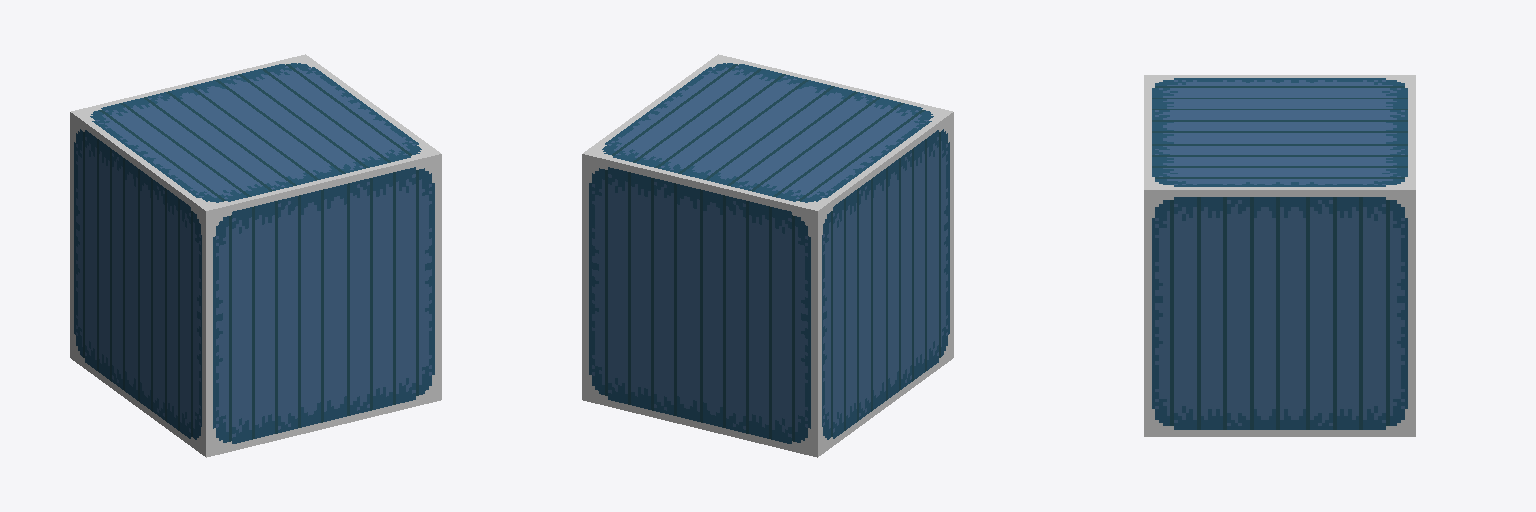
The picture shows the model from 3 angles: view 1: azimuth 30°, elevation 25°; view 2: azimuth 150°, elevation 25°; view 3: azimuth 270°, elevation 25°; orthographic projection.
Parts seen in each view (by area): view 1: GameObject_house_textured_blue_cube.002; view 2: GameObject_house_textured_blue_cube.002; view 3: GameObject_house_textured_blue_cube.002.
Part boxes in pixels (x1,y1,x2,y2): GameObject_house_textured_blue_cube.002: (70,54,441,457); GameObject_house_textured_blue_cube.002: (582,54,953,457); GameObject_house_textured_blue_cube.002: (1144,75,1415,436).
Bounding box in the file's own units: 7.2 × 7.2 × 7.2.
Materials: 1 (1 with a texture image).